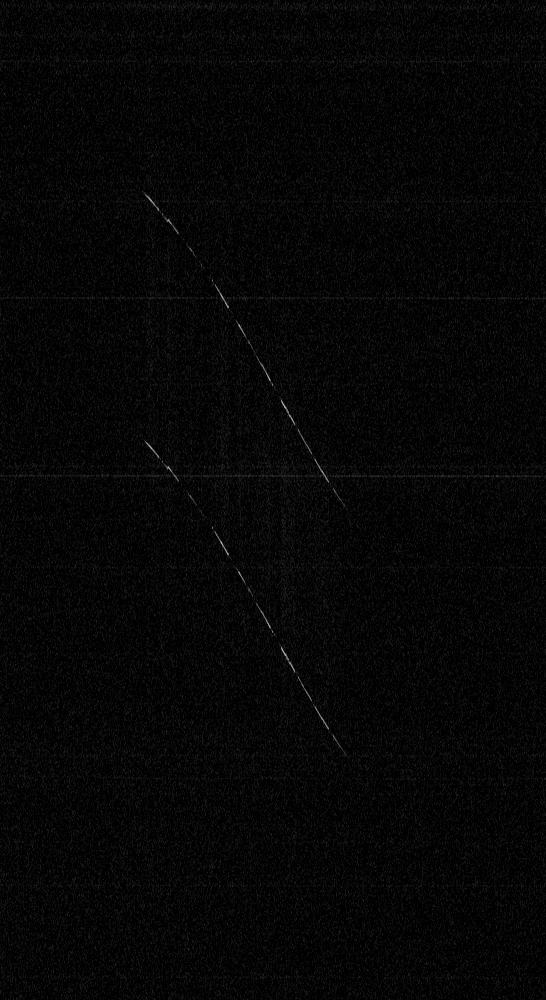signal: (0, 0, 545, 999)
